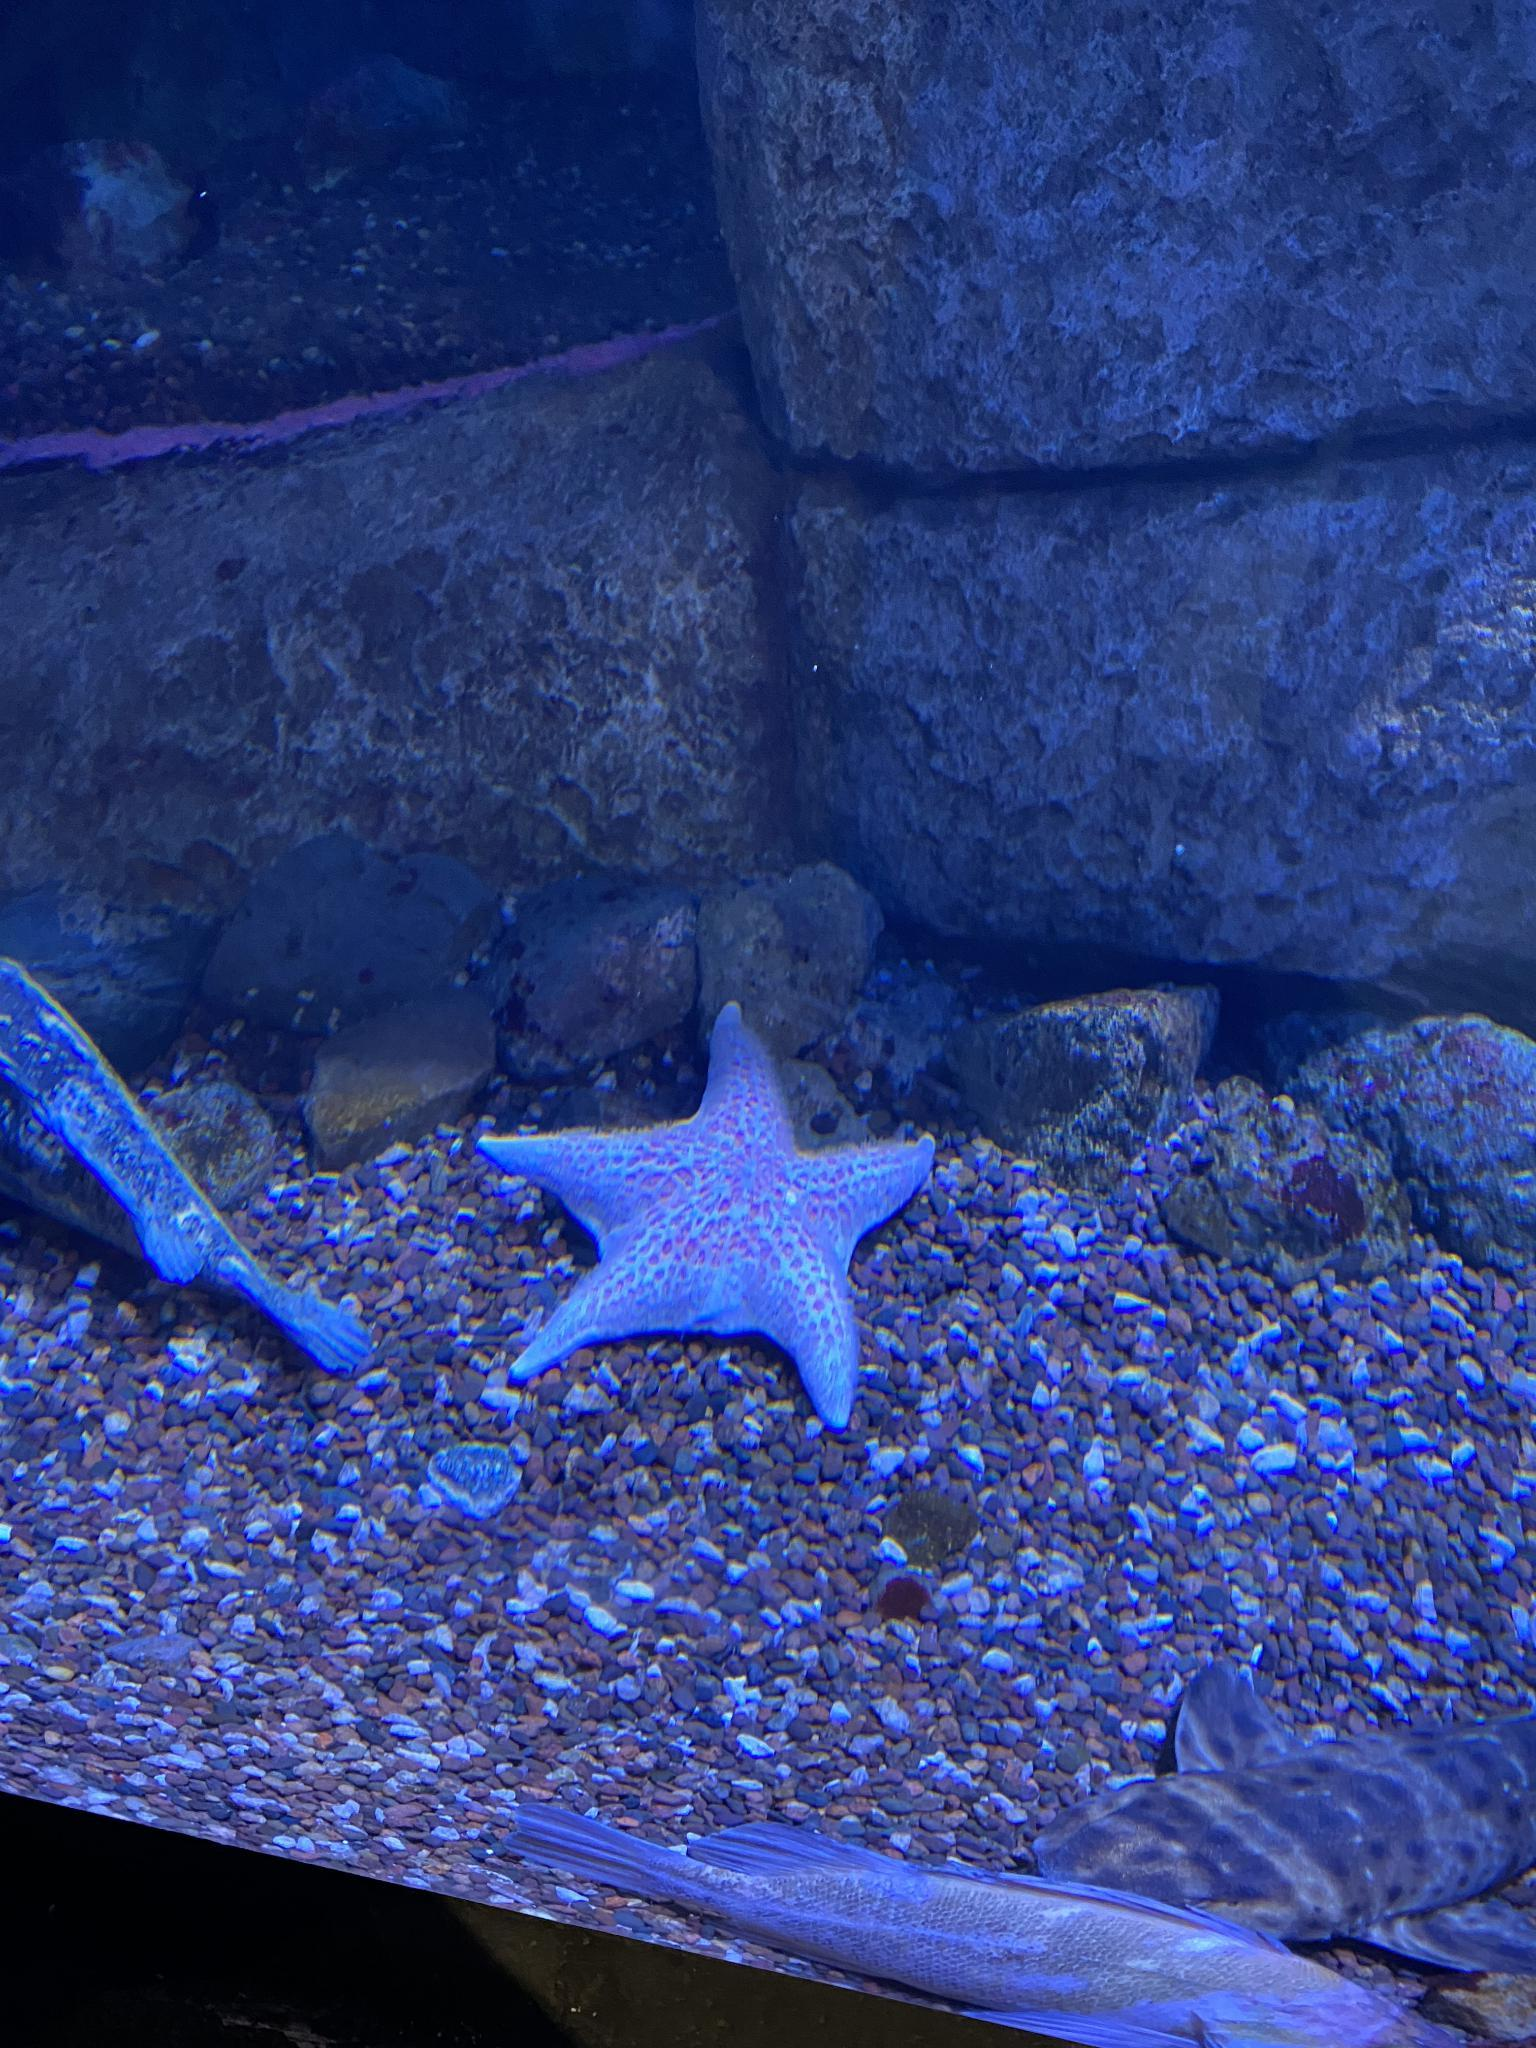fish: (518, 1763, 1509, 2046), (0, 940, 394, 1380)
starfish: (499, 1032, 941, 1442)
